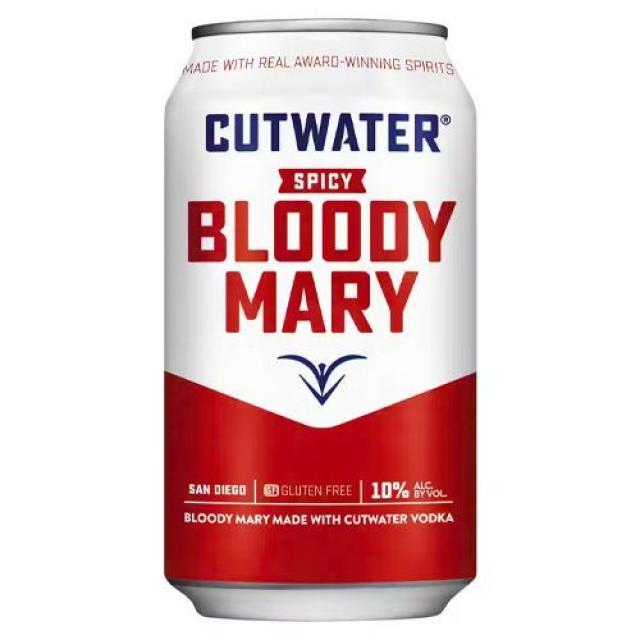Cans: (160, 15, 479, 626)
